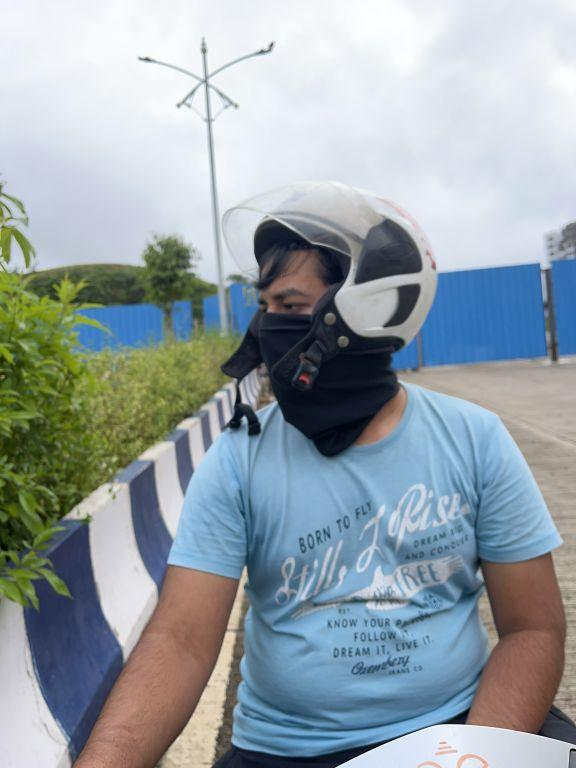helmet: (210, 162, 445, 457)
